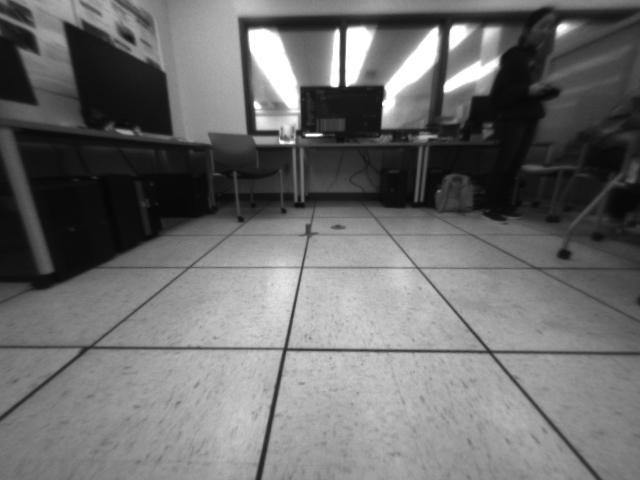X: (296, 222, 320, 239)
